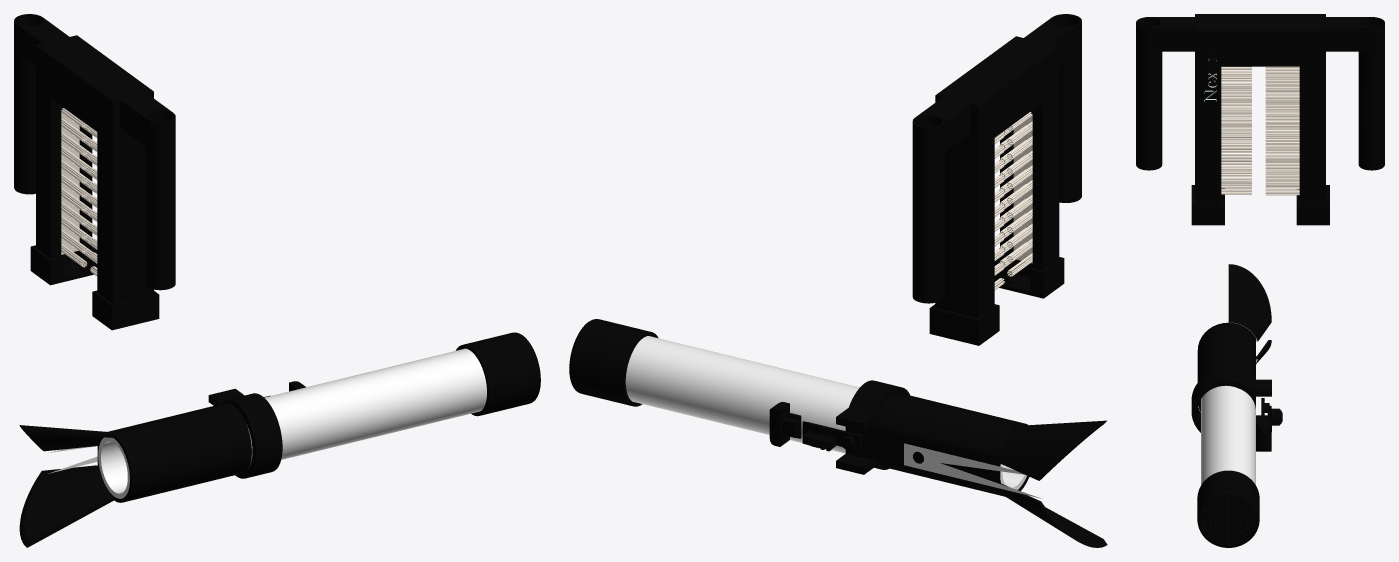
Rendered from Coimbatore_Public_School.glb.
3 renders of one model, left to right at view 1: azimuth 30°, elevation 25°; view 2: azimuth 150°, elevation 25°; view 3: azimuth 270°, elevation 25°, orthographic. The views are drawn at different scales.
Visible parts, largest first — view 1: prd-R1132100093379-01044716-1/prd-R1132100093379-01044718-1/, prd-R1132100093379-01044704-1, prd-R1132100093379-01044706-1, prd-R1132100093379-01044717-1/prd-R1132100093379-01044711-1/, prd-R1132100093379-01044709-1, prd-R1132100093379-01044717-1/prd-R1132100093379-01044722-1, prd-R1132100093379-01044708-1/prd-R1132100093379-01044705-1, prd-R1132100093379-01044716-1/prd-R1132100093379-01044725-1, prd-R1132100093379-01044717-1/prd-R1132100093379-01044723-1, prd-R1132100093379-01044716-1/prd-R1132100093379-01044722-1; view 2: prd-R1132100093379-01044717-1/prd-R1132100093379-01044711-1/, prd-R1132100093379-01044716-1/prd-R1132100093379-01044718-1/, prd-R1132100093379-01044706-1, prd-R1132100093379-01044704-1, prd-R1132100093379-01044709-1, prd-R1132100093379-01044716-1/prd-R1132100093379-01044722-1, prd-R1132100093379-01044708-1/prd-R1132100093379-01044705-1, prd-R1132100093379-01044717-1/prd-R1132100093379-01044723-1, prd-R1132100093379-01044701-1, prd-R1132100093379-01044716-1/prd-R1132100093379-01044725-1, prd-R1132100093379-01044703-1, prd-R1132100093379-01044702-1 (+1 smaller); view 3: prd-R1132100093379-01044717-1/prd-R1132100093379-01044711-1/, prd-R1132100093379-01044716-1/prd-R1132100093379-01044718-1/, prd-R1132100093379-01044704-1, prd-R1132100093379-01044706-1, prd-R1132100093379-01044717-1/prd-R1132100093379-01044722-1, prd-R1132100093379-01044709-1, prd-R1132100093379-01044716-1/prd-R1132100093379-01044722-1, prd-R1132100093379-01044708-1/prd-R1132100093379-01044705-1, prd-R1132100093379-01044716-1/prd-R1132100093379-01044725-1, prd-R1132100093379-01044717-1/prd-R1132100093379-01044723-1, prd-R1132100093379-01044702-1, prd-R1132100093379-01044703-1.
Boxes of the visible parts, x1,y1,x2,y2 form: prd-R1132100093379-01044716-1/prd-R1132100093379-01044718-1/: (74, 63, 175, 303); prd-R1132100093379-01044704-1: (19, 403, 251, 547); prd-R1132100093379-01044706-1: (98, 348, 486, 498); prd-R1132100093379-01044717-1/prd-R1132100093379-01044711-1/: (14, 14, 114, 271); prd-R1132100093379-01044709-1: (455, 332, 540, 416); prd-R1132100093379-01044717-1/prd-R1132100093379-01044722-1: (61, 108, 97, 267); prd-R1132100093379-01044708-1/prd-R1132100093379-01044705-1: (208, 388, 282, 478); prd-R1132100093379-01044716-1/prd-R1132100093379-01044725-1: (92, 290, 159, 330); prd-R1132100093379-01044717-1/prd-R1132100093379-01044723-1: (30, 245, 97, 285); prd-R1132100093379-01044716-1/prd-R1132100093379-01044722-1: (90, 128, 97, 276); prd-R1132100093379-01044717-1/prd-R1132100093379-01044711-1/: (912, 66, 1018, 317); prd-R1132100093379-01044716-1/prd-R1132100093379-01044718-1/: (976, 14, 1081, 284); prd-R1132100093379-01044706-1: (625, 336, 1026, 489); prd-R1132100093379-01044704-1: (874, 393, 1107, 547); prd-R1132100093379-01044709-1: (569, 319, 658, 406); prd-R1132100093379-01044716-1/prd-R1132100093379-01044722-1: (994, 112, 1032, 276); prd-R1132100093379-01044708-1/prd-R1132100093379-01044705-1: (836, 380, 910, 474); prd-R1132100093379-01044717-1/prd-R1132100093379-01044723-1: (929, 304, 999, 345); prd-R1132100093379-01044701-1: (904, 443, 1040, 498); prd-R1132100093379-01044716-1/prd-R1132100093379-01044725-1: (994, 257, 1064, 298); prd-R1132100093379-01044703-1: (802, 421, 861, 451); prd-R1132100093379-01044702-1: (769, 402, 801, 446); prd-R1132100093379-01044717-1/prd-R1132100093379-01044711-1/: (1260, 14, 1384, 203); prd-R1132100093379-01044716-1/prd-R1132100093379-01044718-1/: (1136, 14, 1260, 203); prd-R1132100093379-01044704-1: (1197, 264, 1271, 411); prd-R1132100093379-01044706-1: (1201, 385, 1255, 484); prd-R1132100093379-01044717-1/prd-R1132100093379-01044722-1: (1265, 66, 1299, 195); prd-R1132100093379-01044709-1: (1197, 470, 1259, 547); prd-R1132100093379-01044716-1/prd-R1132100093379-01044722-1: (1221, 66, 1251, 194); prd-R1132100093379-01044708-1/prd-R1132100093379-01044705-1: (1191, 369, 1271, 432); prd-R1132100093379-01044716-1/prd-R1132100093379-01044725-1: (1191, 185, 1224, 225); prd-R1132100093379-01044717-1/prd-R1132100093379-01044723-1: (1296, 185, 1329, 225); prd-R1132100093379-01044702-1: (1256, 419, 1271, 451); prd-R1132100093379-01044703-1: (1261, 398, 1282, 425).
Bounding box in the file's own units: 0.3726 × 0.3187 × 0.19.
